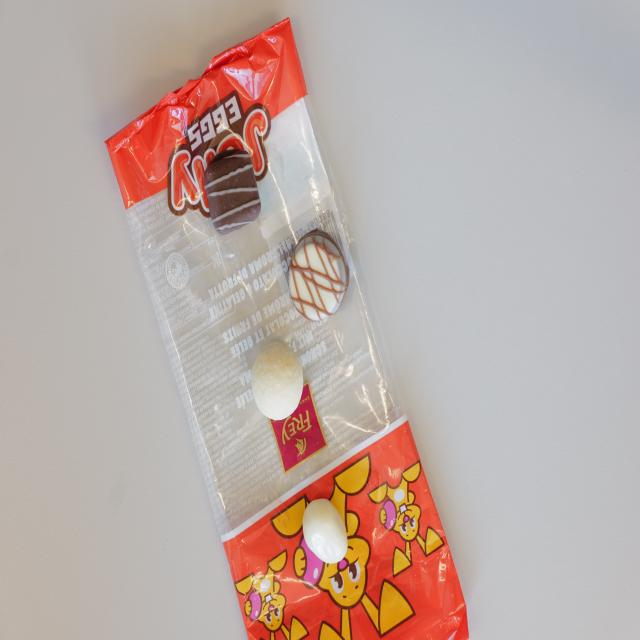Comtesse: (254, 339, 305, 422)
Creme_brulee: (291, 230, 350, 322)
Jelly_White: (304, 496, 349, 563)
Stracciatella: (203, 144, 260, 237)
